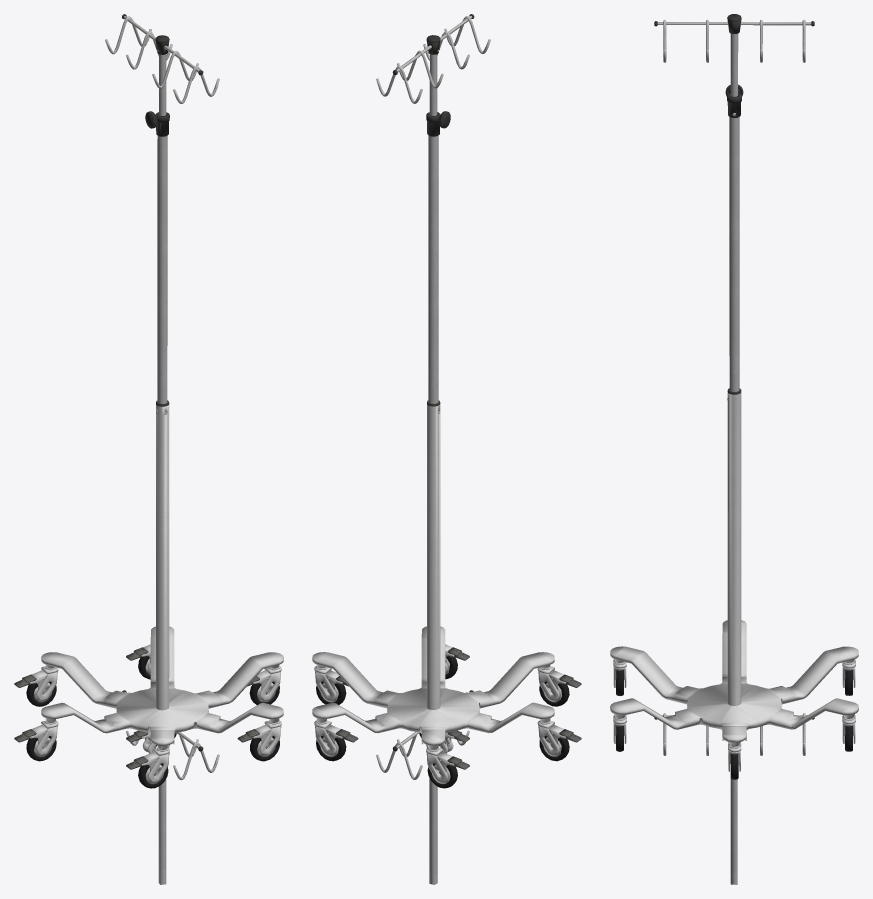
File: IV_pole_a01.glb
3 renders of one model, left to right at view 1: azimuth 30°, elevation 25°; view 2: azimuth 150°, elevation 25°; view 3: azimuth 270°, elevation 25°, orthographic. The views are drawn at different scales.
Parts seen in each view (by area): view 1: body_01_mesh_00, hooks_01_mesh_00 (×2), pole_01_mesh_00, wheelAttachment_03_mesh_00, wheelAttachment_04_mesh_00, wheelAttachment_05_mesh_00, wheelAttachment_06_mesh_00, wheelAttachment_01_mesh_00; view 2: body_01_mesh_00, hooks_01_mesh_00 (×2), pole_01_mesh_00, wheelAttachment_05_mesh_00, wheelAttachment_04_mesh_00, wheelAttachment_02_mesh_00, wheelAttachment_03_mesh_00, wheelAttachment_01_mesh_00; view 3: body_01_mesh_00, pole_01_mesh_00 (×2), hooks_01_mesh_00.
Part boxes in pixels (x1,y1,x2,y2): body_01_mesh_00: (41, 112, 283, 749); hooks_01_mesh_00 (×2): (105, 14, 219, 780); pole_01_mesh_00: (158, 779, 166, 884); wheelAttachment_03_mesh_00: (14, 666, 58, 701); wheelAttachment_04_mesh_00: (14, 720, 58, 755); wheelAttachment_05_mesh_00: (126, 748, 169, 782); wheelAttachment_06_mesh_00: (237, 720, 281, 755); wheelAttachment_01_mesh_00: (247, 666, 281, 701); body_01_mesh_00: (312, 112, 554, 749); hooks_01_mesh_00 (×2): (376, 14, 490, 779); pole_01_mesh_00: (429, 778, 437, 884); wheelAttachment_05_mesh_00: (537, 666, 581, 701); wheelAttachment_04_mesh_00: (537, 720, 581, 755); wheelAttachment_02_mesh_00: (314, 720, 358, 755); wheelAttachment_03_mesh_00: (426, 747, 469, 782); wheelAttachment_01_mesh_00: (314, 666, 348, 701); body_01_mesh_00: (610, 93, 858, 746); pole_01_mesh_00 (×2): (730, 33, 738, 884); hooks_01_mesh_00: (654, 14, 814, 62).
Bounding box in the file's own units: 0.7218 × 2.2 × 0.5709.
Materials: 44 (44 with a texture image).
